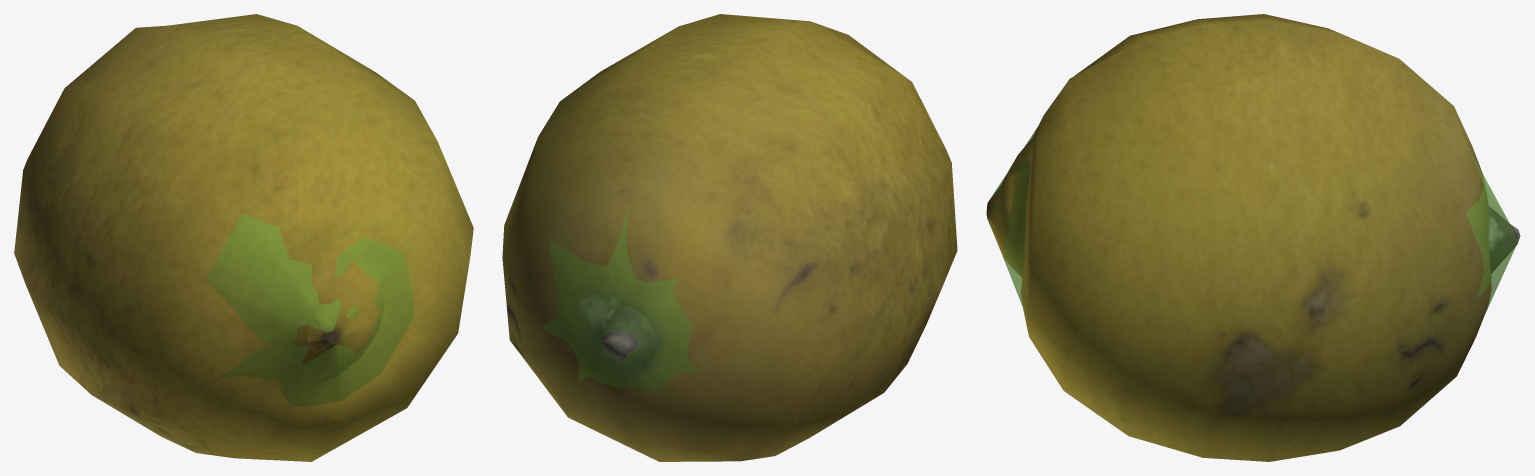
Rendered from pg_Lemon_03.fbx.
The picture shows the model from 3 angles, left to right: view 1: azimuth 30°, elevation 25°; view 2: azimuth 150°, elevation 25°; view 3: azimuth 270°, elevation 25°; orthographic projection.
Visible parts, largest first — view 1: pg_Lemon_03_a_LOD0, pg_Lemon_03_a_col; view 2: pg_Lemon_03_a_LOD0, pg_Lemon_03_a_col; view 3: pg_Lemon_03_a_LOD0, pg_Lemon_03_a_col.
Part boxes in pixels (x1,y1,x2,y2): pg_Lemon_03_a_LOD0: [14, 14, 473, 461]; pg_Lemon_03_a_col: [205, 214, 414, 406]; pg_Lemon_03_a_LOD0: [502, 14, 957, 461]; pg_Lemon_03_a_col: [543, 207, 703, 393]; pg_Lemon_03_a_LOD0: [986, 14, 1520, 461]; pg_Lemon_03_a_col: [987, 128, 1518, 320].
Size of what is drawn, in the model's own units: 5.94 by 6.03 by 7.25.
